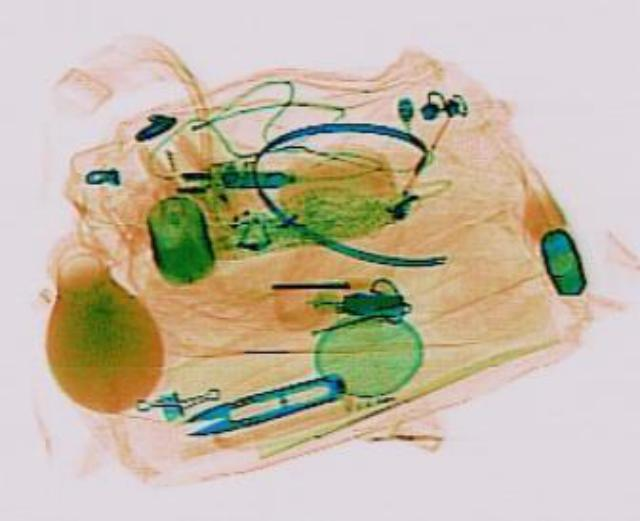Scissors: (172, 365, 350, 442)
